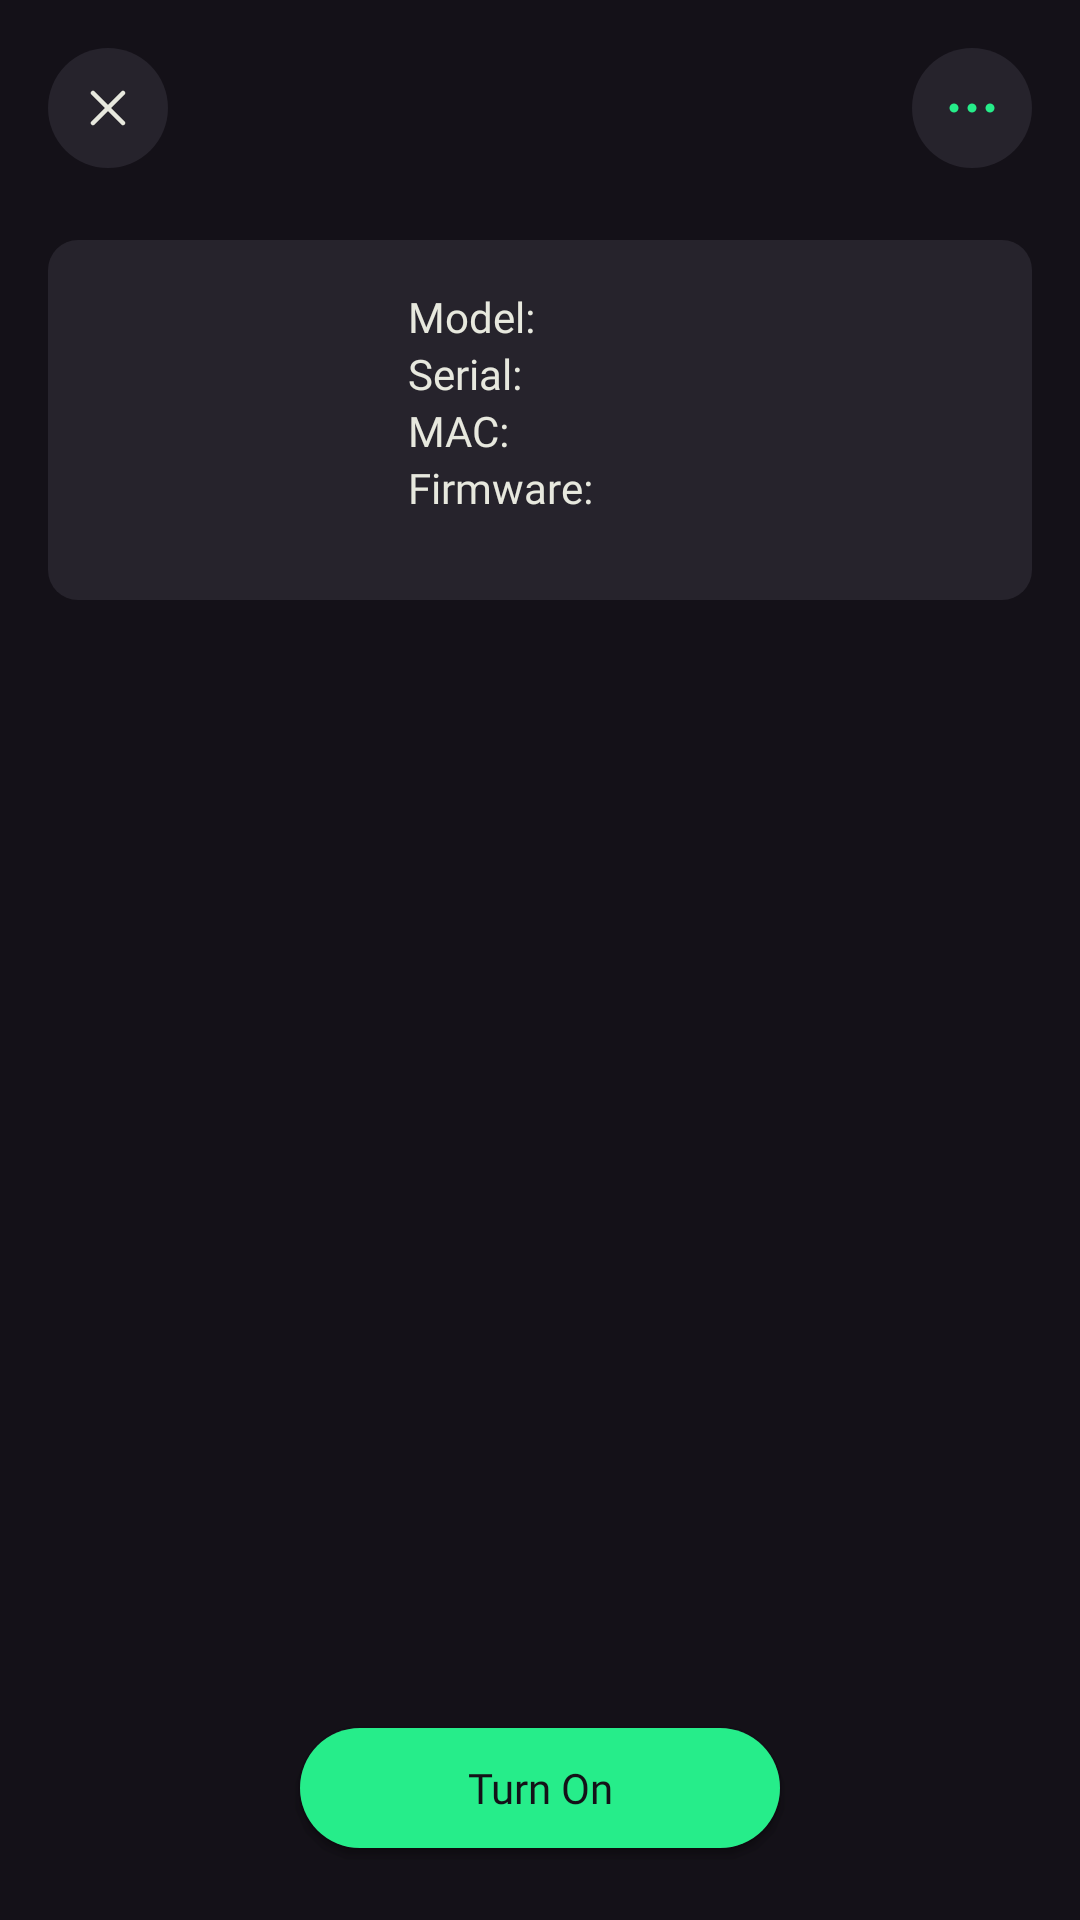

Locate icon controls on the screen. Image size 1080 × 1920, boxes as (x1, y1, x2, y2).
close: (48, 48, 168, 168)
options: (949, 103, 995, 113)
